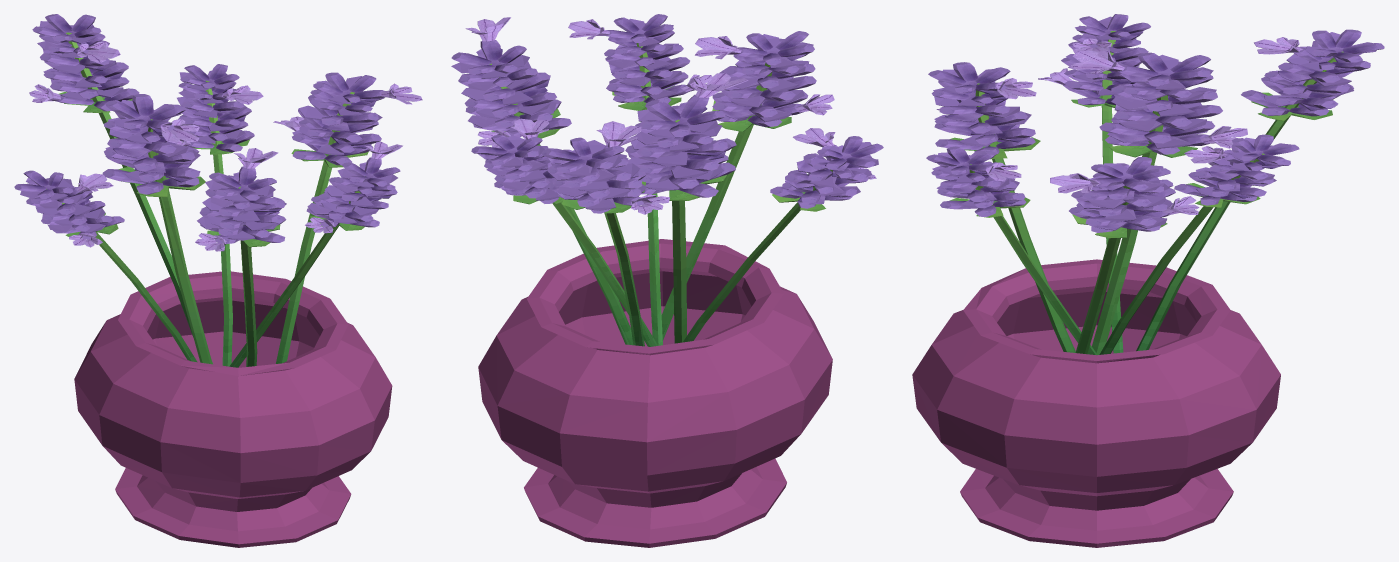
File: sh-scopia-lavender.glb
3 renders of one model, left to right at view 1: azimuth 30°, elevation 25°; view 2: azimuth 150°, elevation 25°; view 3: azimuth 270°, elevation 25°, orthographic. The views are drawn at different scales.
Visible parts, largest first — view 1: Jar, Lavender; view 2: Jar, Lavender; view 3: Jar, Lavender.
Part boxes in pixels (bbox=[...]): Jar: bbox=[74, 271, 392, 547]; Lavender: bbox=[14, 14, 422, 367]; Jar: bbox=[478, 239, 832, 547]; Lavender: bbox=[451, 14, 883, 346]; Jar: bbox=[912, 259, 1280, 547]; Lavender: bbox=[926, 14, 1384, 355].
Bounding box in the file's own units: 0.9993 × 1 × 1.
6 materials, 5 textured.
